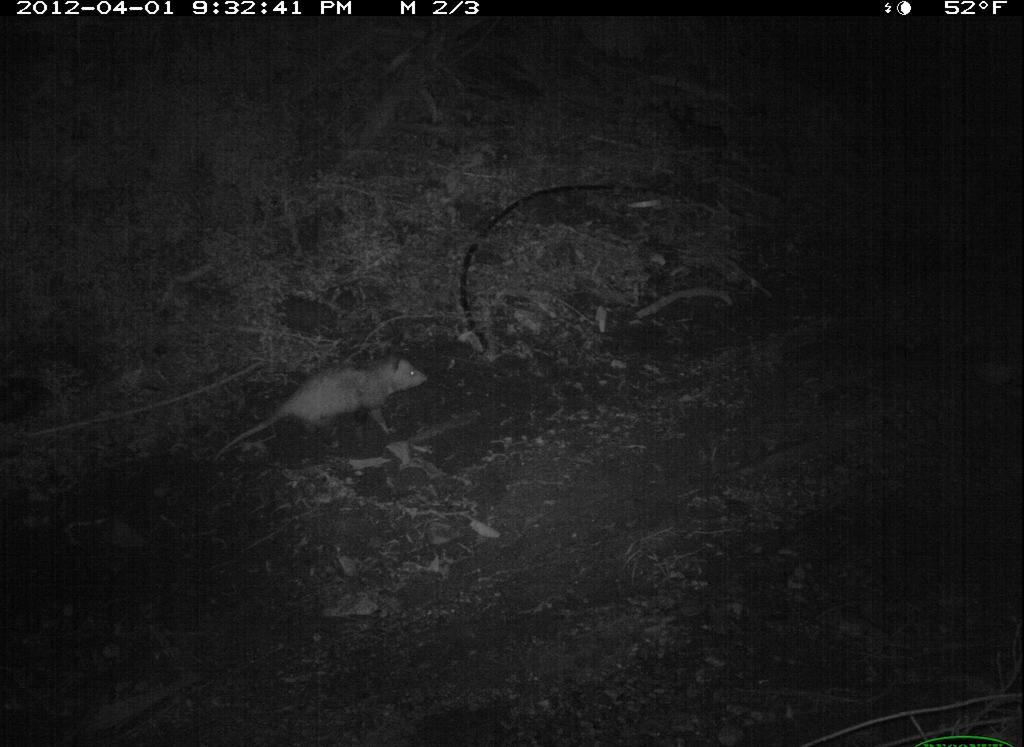opossum: (209, 350, 436, 469)
